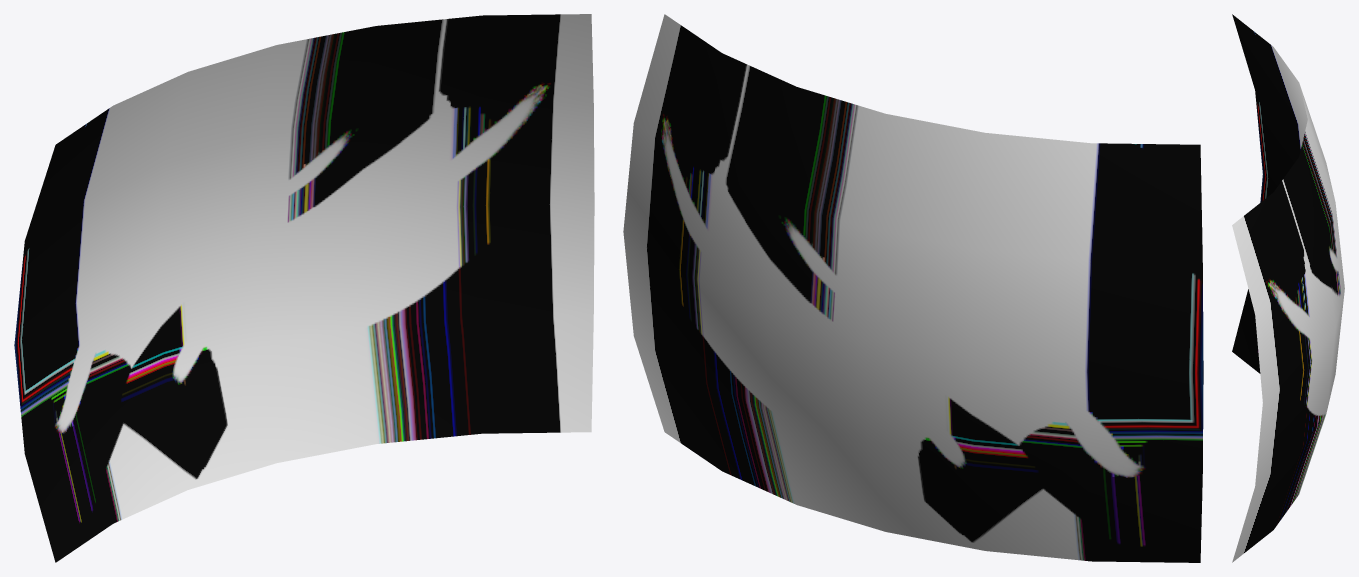
The model's file is Wisp_D.fbx.
3 views of the same model, side by side, from view 1: azimuth 30°, elevation 25°; view 2: azimuth 150°, elevation 25°; view 3: azimuth 270°, elevation 25° (orthographic). The views are drawn at different scales.
Visible parts, largest first — view 1: Wisp_D; view 2: Wisp_D; view 3: Wisp_D.
Boxes of the visible parts, x1,y1,x2,y2 form: Wisp_D: (14, 14, 594, 562); Wisp_D: (623, 14, 1203, 562); Wisp_D: (1232, 14, 1344, 562).
Size of the model in its own units: 120 by 82.52 by 25.
